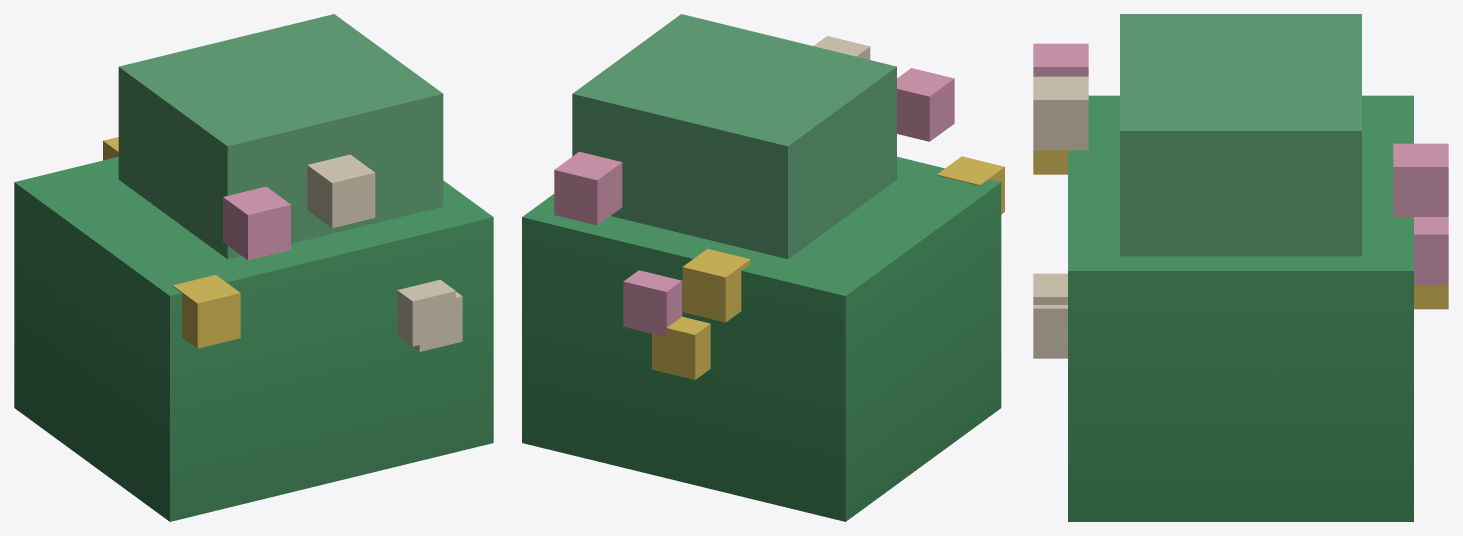
Rendered from bush-flowering.glb.
3 views of the same model, side by side, from view 1: azimuth 30°, elevation 25°; view 2: azimuth 150°, elevation 25°; view 3: azimuth 270°, elevation 25° (orthographic). The views are drawn at different scales.
Visible parts, largest first — view 1: bush-flowering_body; view 2: bush-flowering_body; view 3: bush-flowering_body.
Part boxes in pixels (x1,y1,x2,y2): bush-flowering_body: (14, 14, 493, 521); bush-flowering_body: (522, 14, 1004, 521); bush-flowering_body: (1033, 14, 1448, 521).
Size of the model in its own units: 1.2 by 1.2 by 1.2.
